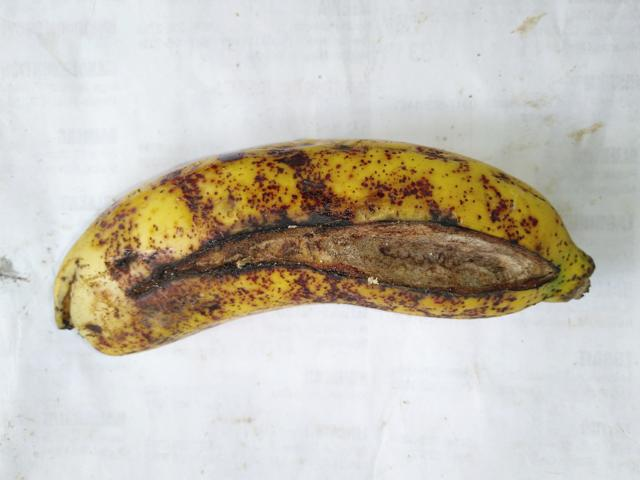rotten: (123, 200, 554, 321), (28, 246, 186, 356)
